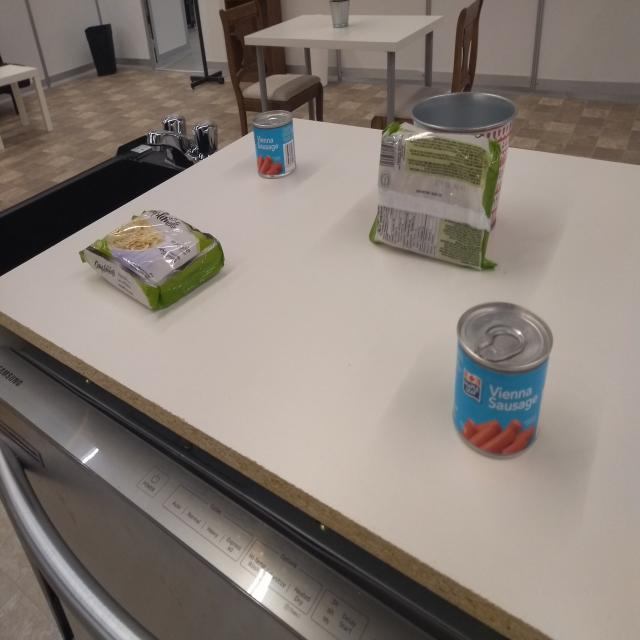noodles: (364, 121, 505, 276), (74, 204, 228, 317)
sausages: (450, 299, 556, 461), (250, 106, 296, 182)
